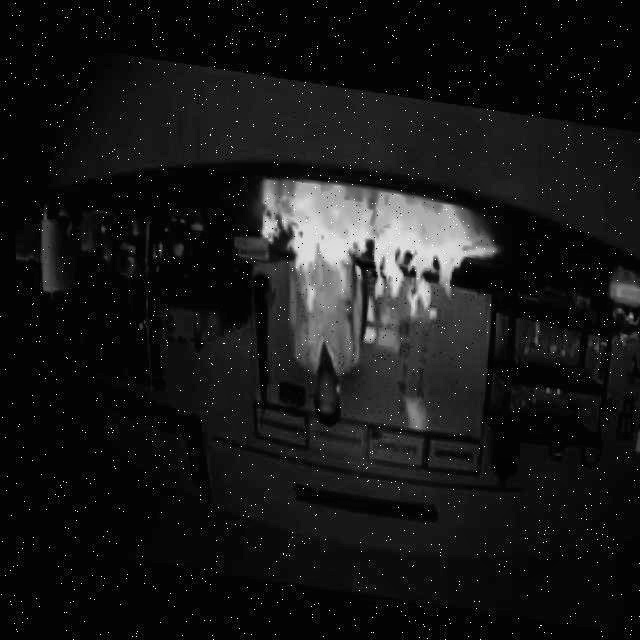Fire: (245, 197, 504, 324)
